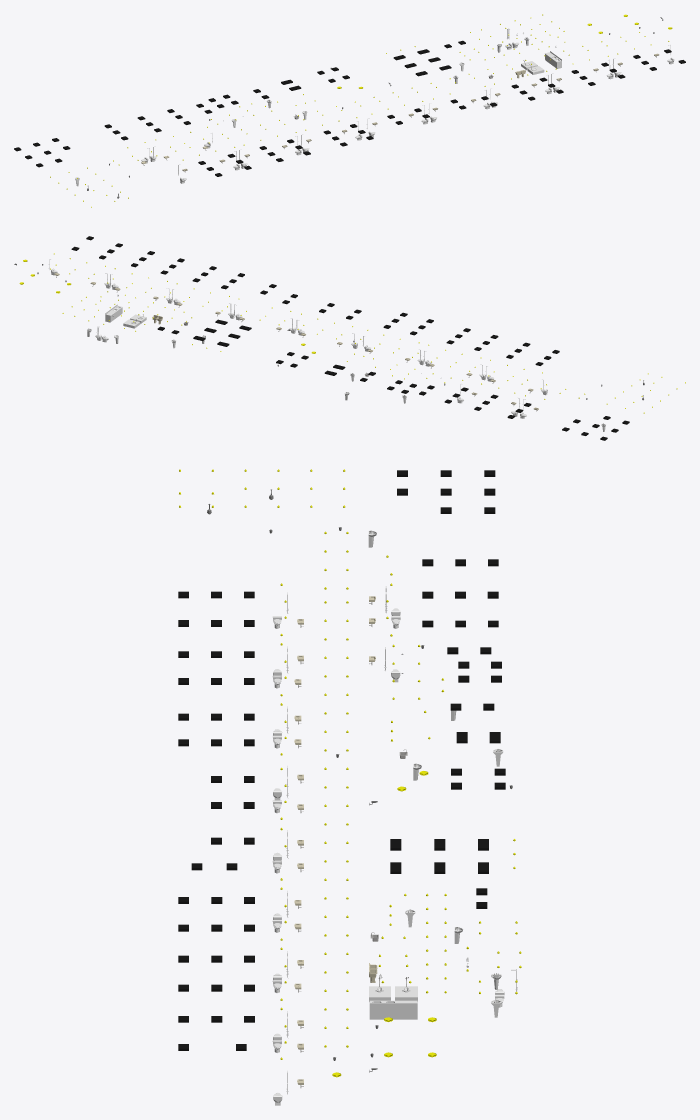
The model's file is F12_shebei.glb.
The picture shows the model from 3 angles, top to bottom: view 1: azimuth 30°, elevation 25°; view 2: azimuth 150°, elevation 25°; view 3: azimuth 270°, elevation 25°; orthographic projection. The views are drawn at different scales.
Parts seen in each view (by area): view 1: no part large enough to name; view 2: no part large enough to name; view 3: 标准 [1967079].
Boxes of the visible parts, x1,y1,x2,y2 form: 标准 [1967079]: [369, 1000, 417, 1019].
Bounding box in the file's own units: 78.53 × 3.09 × 18.84.
